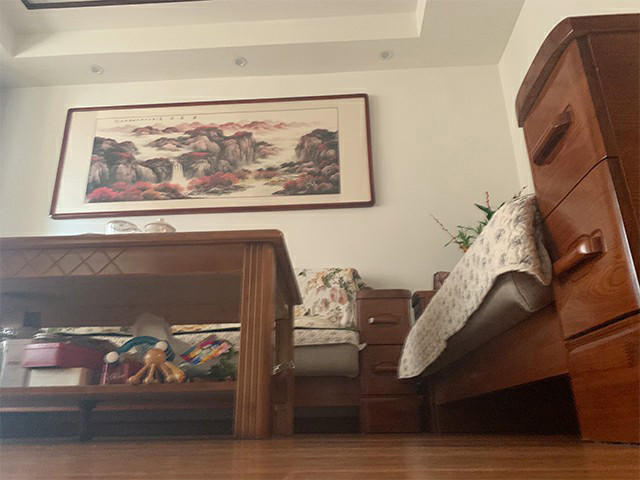sofa: (409, 190, 571, 446), (293, 263, 364, 439)
table: (1, 229, 303, 440)
